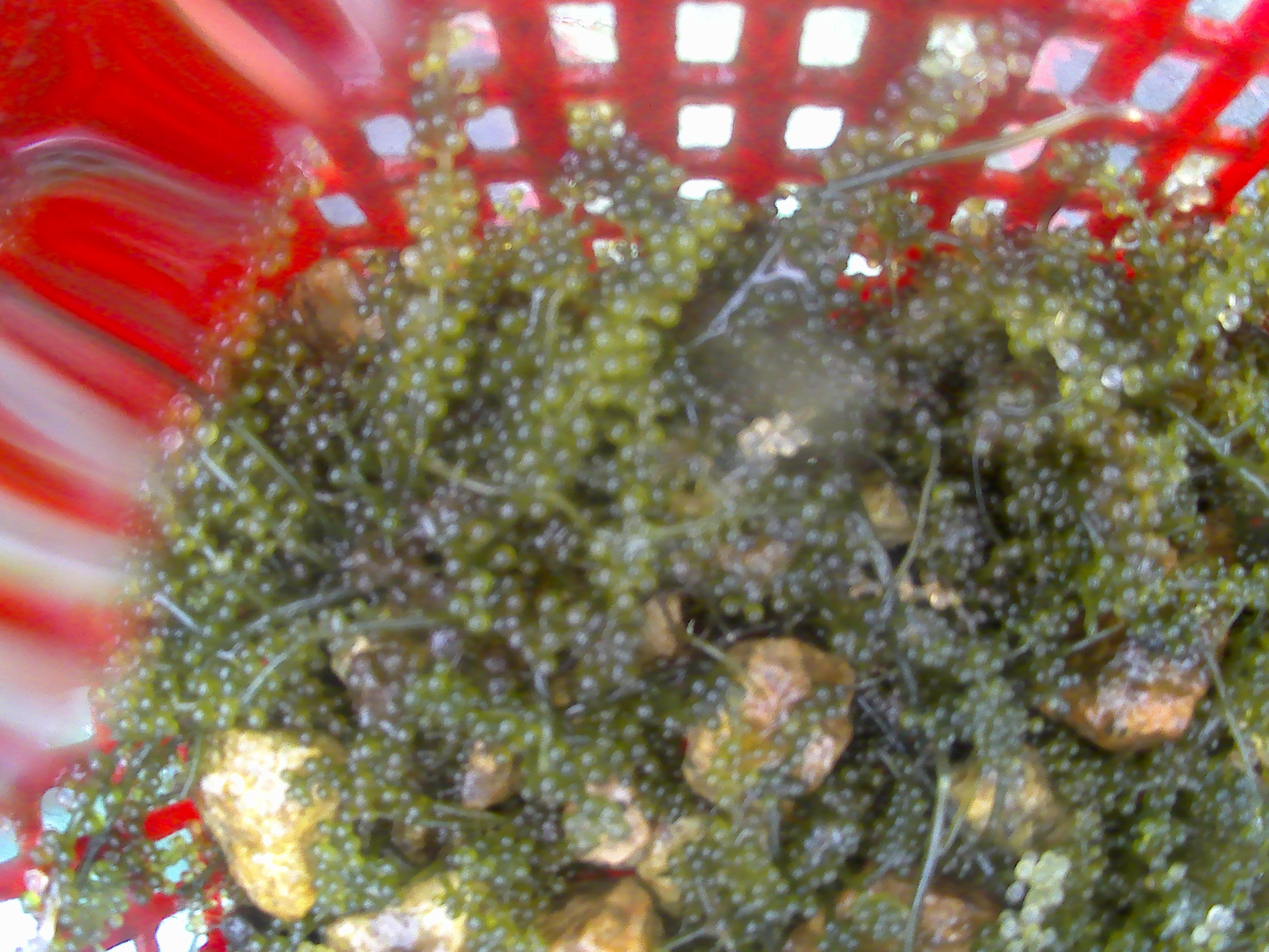Darkening: (388, 583, 416, 612), (404, 567, 432, 596), (481, 652, 509, 679), (379, 650, 408, 676), (355, 521, 379, 545), (504, 592, 528, 616), (443, 557, 467, 581), (289, 562, 313, 585), (351, 547, 373, 571), (387, 558, 413, 578), (403, 543, 426, 563), (353, 655, 374, 676), (1000, 421, 1020, 443), (356, 574, 374, 595), (926, 427, 941, 443), (915, 410, 930, 425)
Harvestable: (555, 446, 581, 478), (604, 419, 632, 447), (443, 595, 471, 623), (467, 571, 496, 598), (534, 590, 561, 618), (654, 302, 682, 328), (466, 519, 494, 545), (708, 816, 734, 844), (534, 471, 561, 497), (192, 422, 218, 448), (496, 312, 522, 338), (587, 762, 612, 788), (465, 612, 492, 636), (490, 336, 514, 363), (585, 385, 611, 409), (441, 353, 465, 378), (376, 858, 400, 883), (587, 537, 612, 561), (492, 544, 516, 569), (719, 594, 744, 618), (937, 111, 961, 136), (621, 491, 645, 515), (401, 246, 424, 271), (583, 312, 610, 333), (444, 131, 468, 154), (594, 330, 619, 352), (609, 298, 634, 320), (573, 414, 593, 441), (407, 59, 430, 82), (241, 381, 264, 404), (743, 601, 766, 624), (800, 501, 823, 524), (603, 355, 625, 379), (457, 186, 480, 208), (152, 710, 175, 732), (429, 677, 452, 699), (527, 397, 549, 420), (560, 759, 582, 782), (185, 560, 209, 581), (625, 353, 645, 378), (509, 269, 531, 291), (451, 377, 473, 399), (83, 814, 105, 836), (441, 316, 464, 337), (235, 339, 258, 360), (675, 234, 698, 255), (646, 232, 669, 253), (599, 566, 620, 589), (22, 889, 43, 912), (627, 606, 648, 629), (177, 464, 198, 486), (103, 786, 124, 808), (174, 535, 197, 555), (245, 520, 268, 540), (405, 695, 428, 715), (425, 50, 444, 74), (237, 486, 258, 507), (218, 699, 239, 720), (426, 400, 446, 422), (623, 326, 643, 348), (709, 233, 729, 255), (698, 217, 717, 240), (434, 174, 454, 195), (432, 203, 452, 224), (410, 137, 431, 157), (399, 317, 420, 337), (247, 709, 267, 730), (677, 281, 698, 301), (543, 384, 563, 405), (412, 374, 432, 394), (116, 718, 136, 738), (529, 501, 549, 521), (213, 556, 233, 576), (707, 772, 728, 791), (424, 357, 440, 381), (408, 300, 428, 319), (334, 822, 354, 841), (540, 774, 560, 793), (341, 835, 360, 855), (1034, 414, 1053, 434), (725, 740, 746, 758), (192, 707, 211, 726), (183, 651, 202, 670), (451, 225, 469, 245), (735, 202, 753, 222), (661, 273, 679, 293), (712, 753, 730, 773), (161, 521, 182, 538), (716, 208, 733, 229), (354, 776, 375, 793), (433, 664, 454, 681), (418, 173, 436, 192), (654, 252, 672, 271), (347, 857, 366, 875), (638, 271, 656, 290), (1201, 324, 1220, 342), (821, 529, 839, 548), (1168, 861, 1186, 880), (458, 301, 475, 321), (679, 260, 696, 280), (353, 794, 374, 810), (406, 217, 424, 235), (288, 498, 306, 516), (702, 190, 720, 208), (772, 595, 789, 614), (615, 595, 635, 611), (358, 809, 379, 824), (197, 682, 215, 699), (697, 250, 714, 268), (635, 196, 652, 214), (456, 247, 475, 263), (400, 190, 416, 208), (139, 720, 156, 736), (326, 880, 342, 897), (805, 529, 822, 545), (322, 849, 338, 865), (215, 715, 232, 730), (339, 808, 356, 823), (312, 875, 329, 890), (409, 203, 427, 217), (718, 192, 734, 207), (416, 188, 433, 202), (406, 341, 423, 355), (1230, 564, 1245, 579), (691, 680, 706, 695), (1098, 554, 1113, 569), (140, 698, 153, 712)
Whitening: (959, 51, 987, 77), (158, 426, 184, 452), (1100, 364, 1125, 390), (1054, 344, 1079, 368), (1172, 190, 1196, 213), (1020, 905, 1045, 927), (23, 869, 48, 891), (1009, 55, 1031, 77), (1189, 184, 1212, 205), (1220, 310, 1241, 332), (1052, 853, 1072, 876), (1227, 293, 1251, 312), (986, 58, 1007, 79), (1005, 882, 1025, 904), (1014, 862, 1034, 881), (1045, 887, 1065, 906), (999, 920, 1019, 939), (1023, 925, 1043, 944), (1191, 925, 1209, 944), (753, 416, 773, 433), (1031, 867, 1048, 887), (1206, 904, 1222, 925), (1219, 908, 1235, 928), (738, 431, 755, 449), (761, 440, 779, 457), (780, 438, 795, 458), (795, 428, 812, 445), (777, 412, 791, 429), (1022, 849, 1038, 863)
